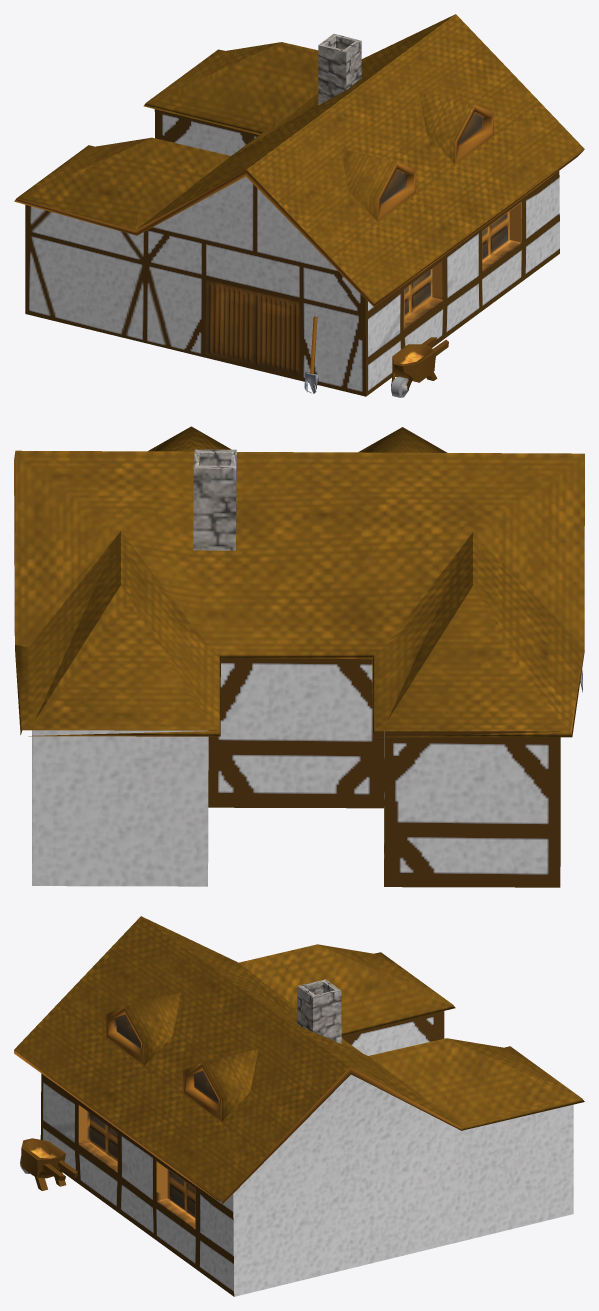
File: farm2.gltf
3 views of the same model, one above another, from view 1: azimuth 30°, elevation 25°; view 2: azimuth 150°, elevation 25°; view 3: azimuth 270°, elevation 25° (orthographic). The views are drawn at different scales.
Visible parts, largest first — view 1: something; view 2: something; view 3: something.
Part boxes in pixels (<box>): something: <box>14,14,584,397</box>; something: <box>14,426,584,887</box>; something: <box>14,916,584,1296</box>.
Size of the model in its own units: 3.66 by 1.61 by 3.7.
Materials: 1 (1 with a texture image).
